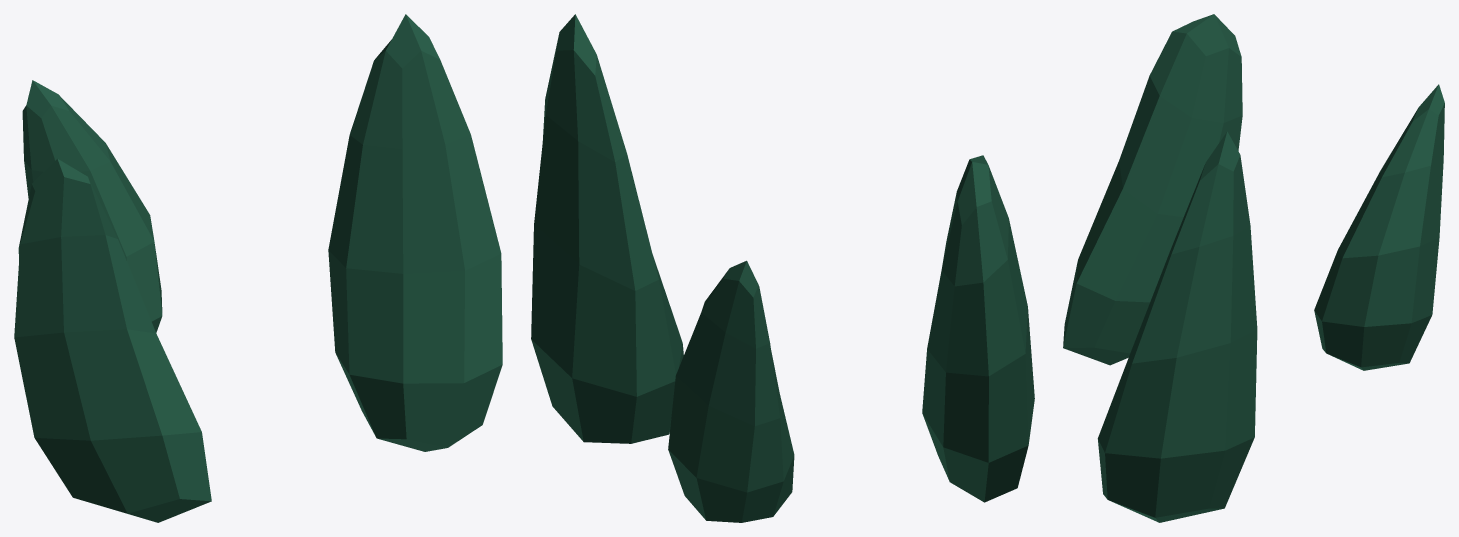
File: Grass.fbx
3 renders of one model, left to right at view 1: azimuth 30°, elevation 25°; view 2: azimuth 150°, elevation 25°; view 3: azimuth 270°, elevation 25°, orthographic. The views are drawn at different scales.
Parts seen in each view (by area): view 1: Cube; view 2: Cube; view 3: Cube.
Boxes of the visible parts, x1,y1,x2,y2 form: Cube: (14,14,502,522); Cube: (531,14,1034,522); Cube: (1063,14,1444,522).
Bounding box in the file's own units: 82.26 × 60.65 × 69.93.
